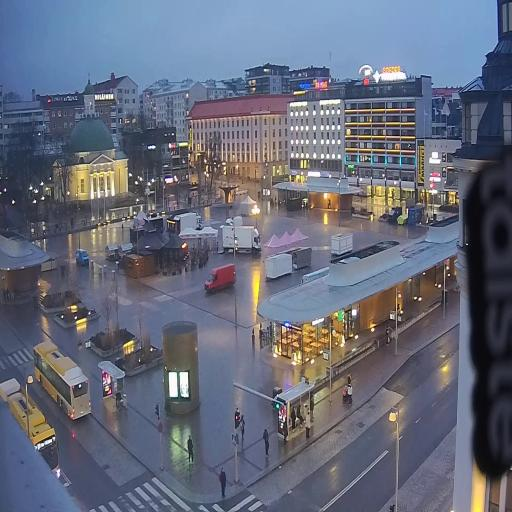bus: (0, 371, 63, 484), (31, 336, 94, 424)
delivery: (202, 259, 238, 299), (218, 226, 263, 254), (169, 208, 204, 236), (225, 209, 247, 231), (74, 244, 90, 270)
